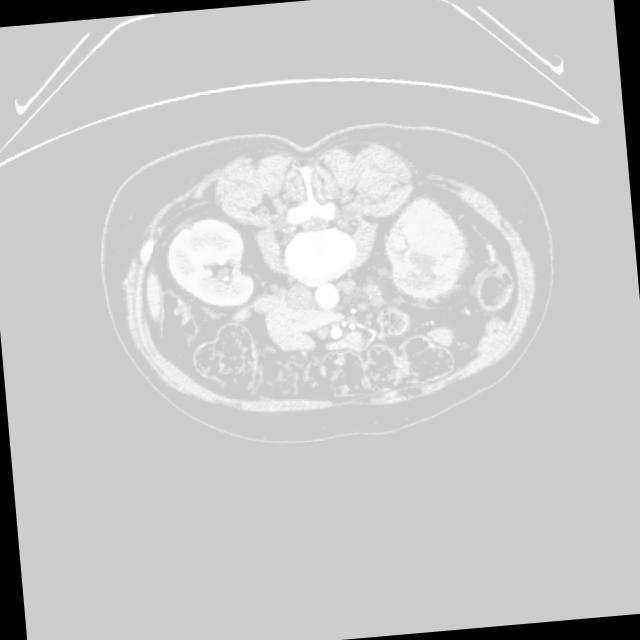TUMOR: (140, 179, 501, 348)
